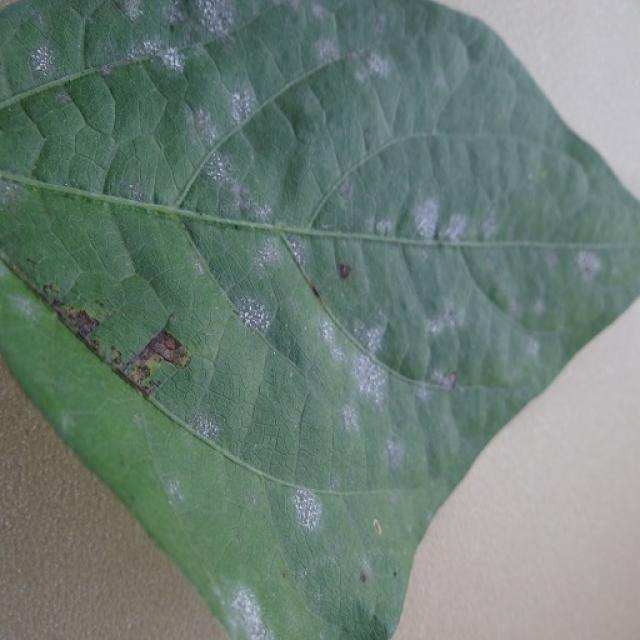Blackgram: (0, 0, 639, 639)
Powdery_Mildew: (379, 205, 535, 411), (180, 64, 290, 226), (482, 228, 604, 338), (107, 0, 248, 75), (314, 308, 393, 434), (394, 190, 487, 251), (351, 340, 389, 407), (215, 170, 262, 221), (229, 587, 272, 636), (194, 1, 240, 36), (288, 488, 324, 531), (234, 294, 273, 333), (426, 301, 463, 339), (132, 36, 176, 67), (292, 488, 323, 528), (205, 152, 236, 190), (411, 195, 439, 235), (7, 290, 40, 319), (231, 87, 257, 122), (191, 105, 217, 138), (1, 176, 26, 208), (190, 412, 218, 440), (29, 46, 56, 74), (362, 51, 390, 78), (254, 239, 280, 268), (576, 250, 603, 277), (166, 478, 189, 509), (313, 37, 339, 63), (318, 316, 339, 348), (159, 47, 186, 71), (445, 212, 468, 240), (430, 368, 456, 390), (385, 437, 404, 467), (364, 323, 384, 350), (287, 238, 306, 266), (480, 208, 499, 236), (341, 403, 359, 432), (120, 1, 145, 19), (251, 202, 272, 222), (58, 413, 76, 435), (338, 177, 354, 200), (375, 217, 394, 236), (126, 183, 145, 202), (543, 248, 560, 269), (311, 4, 328, 20), (98, 62, 115, 78), (329, 471, 342, 491), (55, 91, 72, 106), (527, 339, 540, 357), (510, 300, 523, 318), (375, 12, 388, 30), (132, 414, 145, 429), (533, 299, 545, 315), (192, 260, 204, 274), (129, 184, 135, 190)
